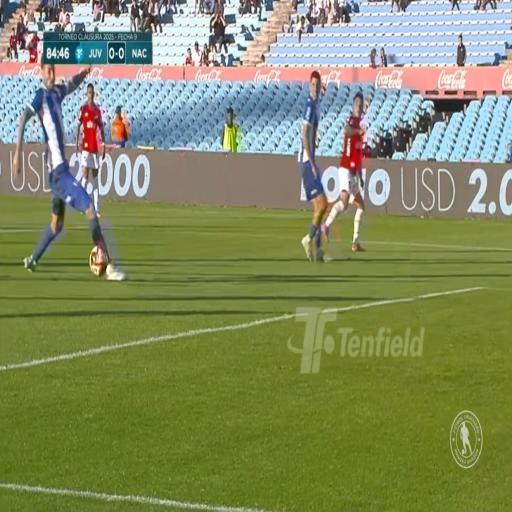Ball: (88, 241, 107, 279)
Player: (32, 54, 84, 269), (300, 66, 326, 271), (340, 79, 367, 246), (81, 81, 103, 200)
